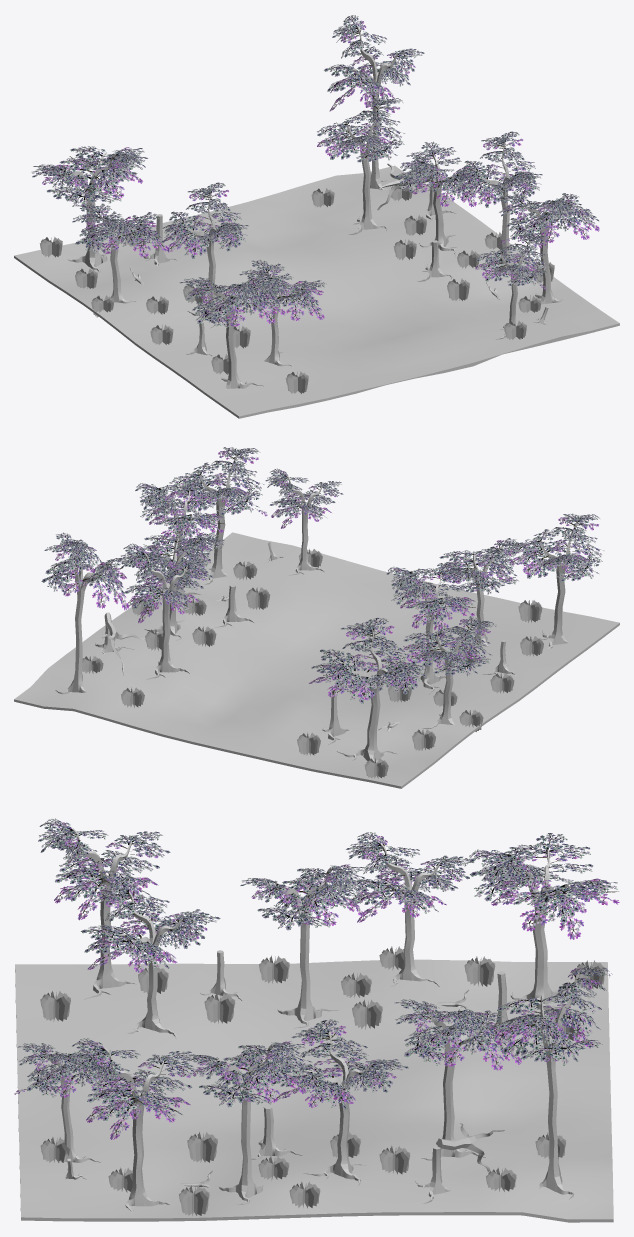
Rendered from Map_1.fbx.
3 renders of one model, top to bottom at view 1: azimuth 30°, elevation 25°; view 2: azimuth 150°, elevation 25°; view 3: azimuth 270°, elevation 25°, orthographic. The views are drawn at different scales.
Parts seen in each view (by area): view 1: polySurface431, Tr2, Tr11, Tr12, Tr4, Tr1, Tr8, Tr7, Tr3, Tr9, Tr5, Tr10 (+1 smaller); view 2: polySurface431, Tr2, Tr4, Tr12, Tr11, Tr7, Tr1, Tr3, Tr8, Tr5, Tr10, Tr9 (+2 smaller); view 3: polySurface431, Tr2, Tr5, Tr7, Tr11, Tr4, Tr3, Tr9, Tr1, Tr8, Tr12, Tr10 (+14 smaller).
Boxes of the visible parts, box(x1,y1,x2,y2) form: polySurface431: box(14, 165, 619, 418); Tr2: box(31, 146, 147, 273); Tr11: box(324, 15, 424, 189); Tr12: box(317, 98, 404, 234); Tr4: box(179, 277, 285, 389); Tr1: box(159, 182, 248, 328); Tr8: box(456, 131, 542, 277); Tr7: box(494, 193, 599, 304); Tr3: box(72, 203, 167, 303); Tr9: box(394, 141, 486, 255); Tr5: box(239, 259, 526, 367); Tr10: box(475, 234, 548, 339); polySurface431: box(14, 532, 619, 788); Tr2: box(309, 617, 427, 763); Tr4: box(509, 513, 603, 650); Tr12: box(119, 543, 212, 679); Tr11: box(41, 532, 128, 694); Tr7: box(169, 447, 267, 584); Tr1: box(386, 562, 475, 694); Tr3: box(403, 616, 496, 728); Tr8: box(135, 478, 224, 604); Tr5: box(299, 538, 527, 646); Tr10: box(265, 468, 343, 575); Tr9: box(128, 532, 224, 640); polySurface431: box(15, 959, 613, 1222); Tr2: box(469, 833, 619, 1010); Tr5: box(40, 877, 220, 1162); Tr7: box(70, 1038, 202, 1212); Tr11: box(494, 966, 612, 1199); Tr4: box(38, 818, 170, 999); Tr3: box(345, 832, 474, 986); Tr9: box(271, 1019, 408, 1185); Tr1: box(240, 864, 371, 1028); Tr8: box(181, 1041, 312, 1204); Tr12: box(394, 999, 521, 1160); Tr10: box(14, 1043, 124, 1162).
Bounding box in the file's own units: 25.99 × 10.6 × 24.62.
